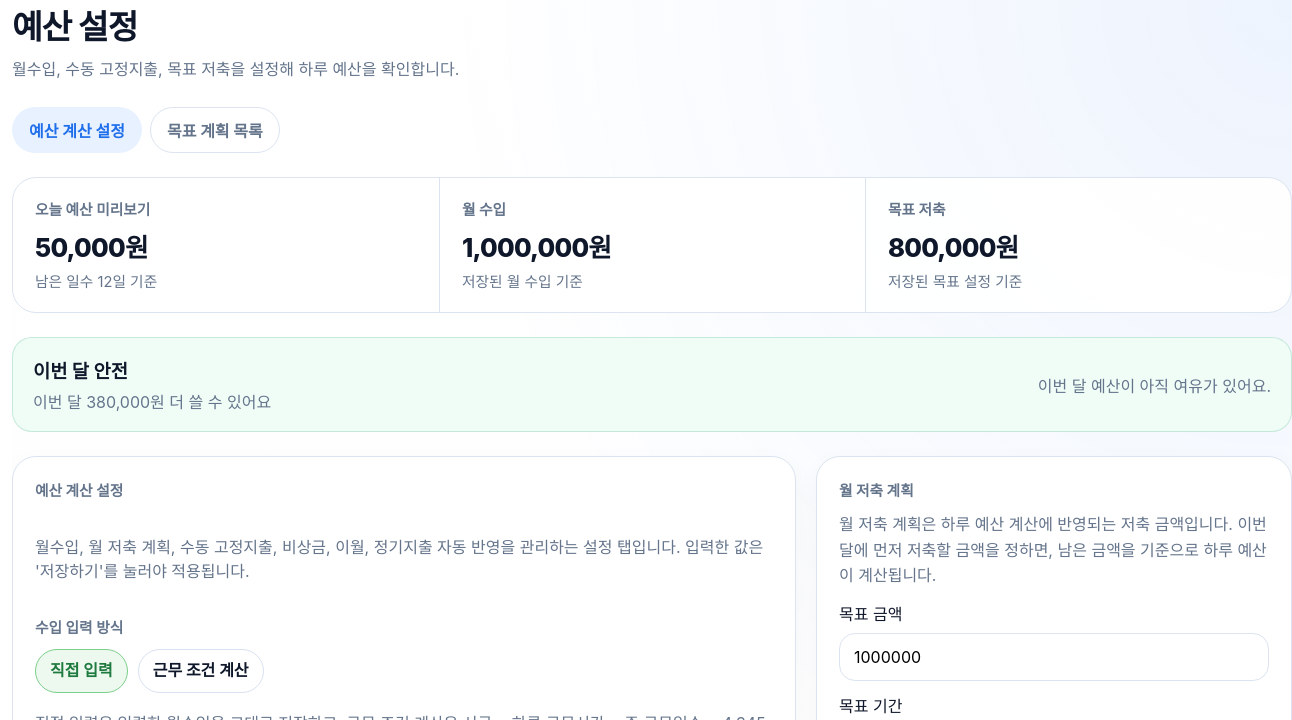
it: BudgetSettings › renders saving goal list cards with calculations
Click the tab "목표 계획 목록": (215, 130) 150,107 -> 280,153
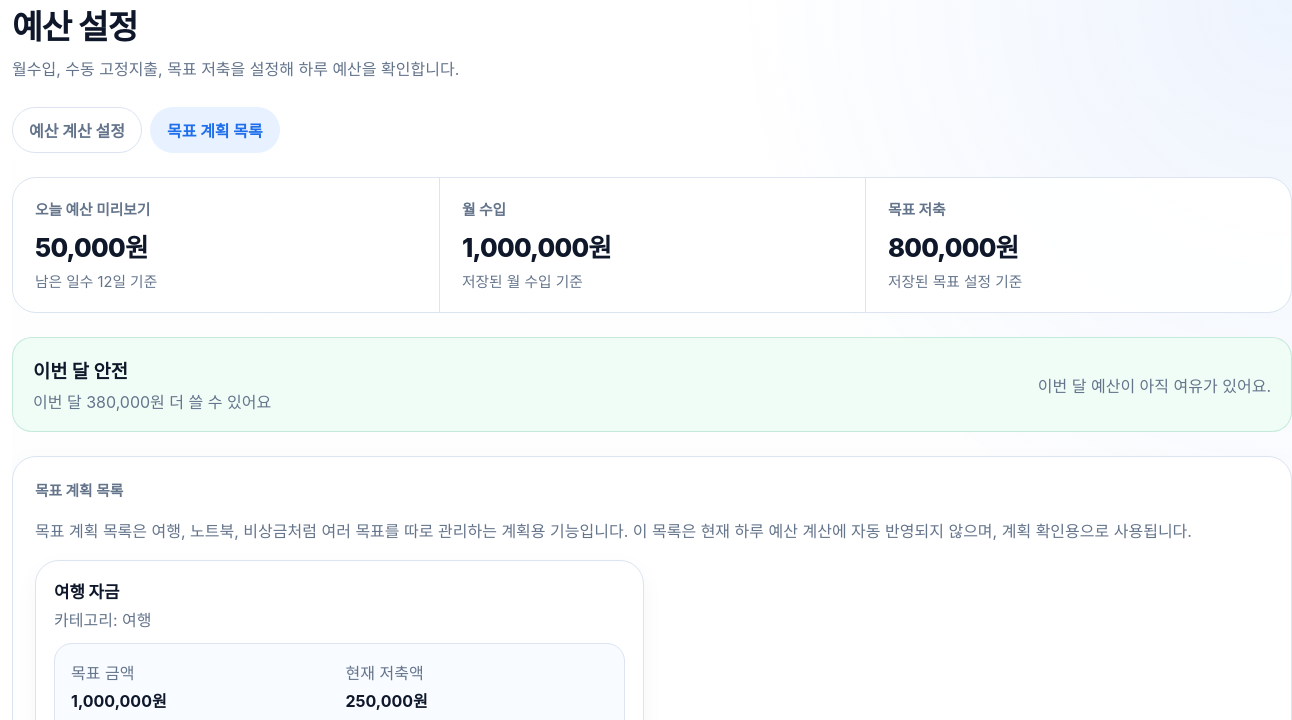
Expected: the heading "목표 계획 목록" is shown, 35,482 -> 123,500
Expected: the heading "여행 자금" is shown, 54,582 -> 119,602
Expected: the text "목표 금액" is shown, 71,663 -> 134,683
